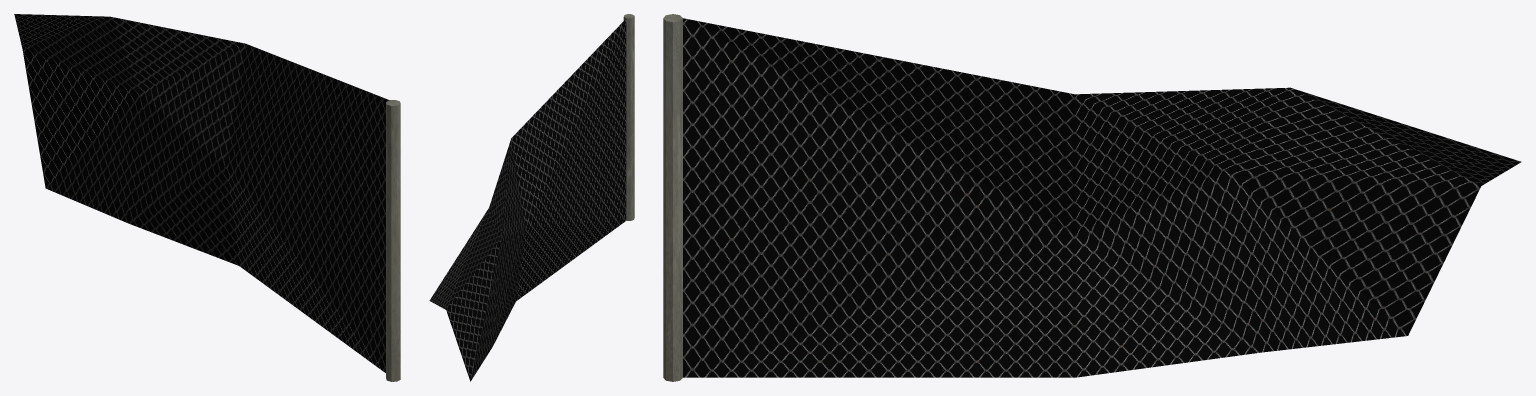
File: FenceBroken.fbx
3 views of the same model, side by side, from view 1: azimuth 30°, elevation 25°; view 2: azimuth 150°, elevation 25°; view 3: azimuth 270°, elevation 25° (orthographic). The views are drawn at different scales.
Parts seen in each view (by area): view 1: Fence; view 2: Fence; view 3: Fence.
Boxes of the visible parts, x1,y1,x2,y2 form: Fence: (14,14,400,381); Fence: (429,14,634,381); Fence: (663,14,1521,381).
Bounding box in the file's own units: 110 × 400 × 866.
